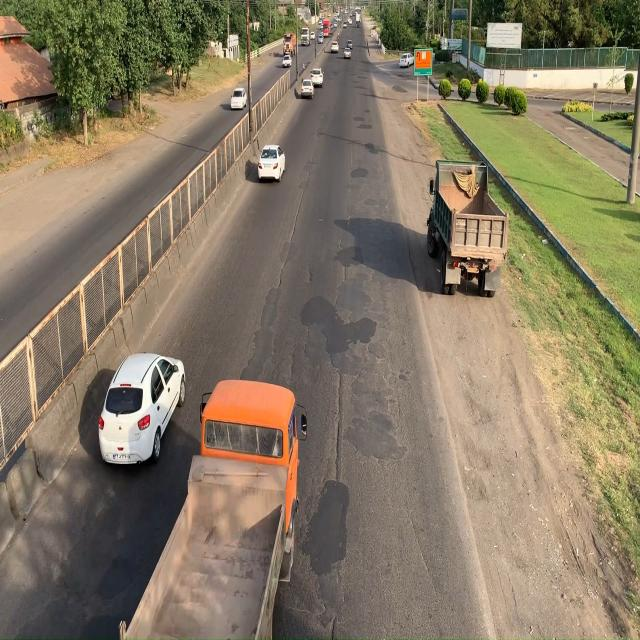Truck: (183, 383, 305, 604), (425, 160, 510, 303)
cars: (94, 345, 187, 468), (257, 140, 285, 181), (230, 85, 247, 110)
